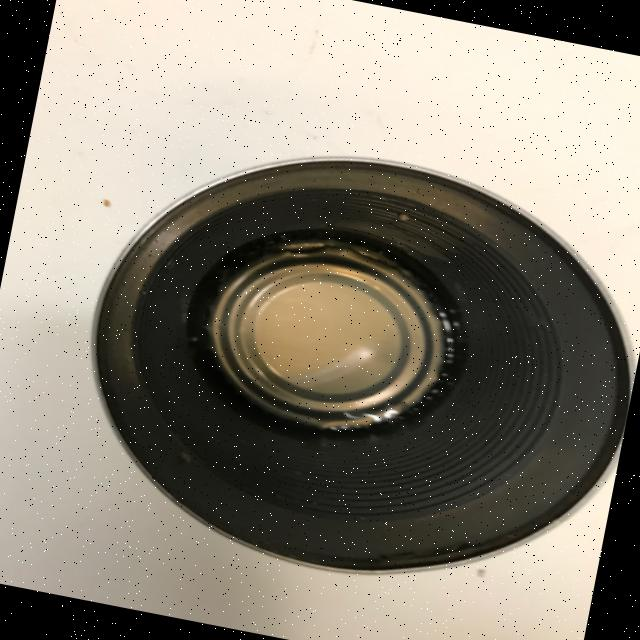metal: (54, 109, 640, 621)
